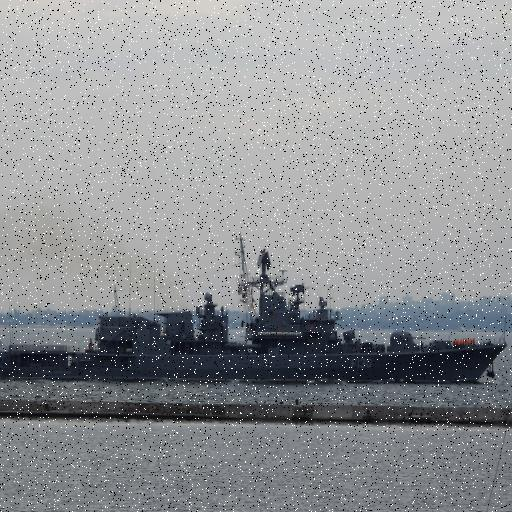Fragata: (1, 225, 511, 384)
